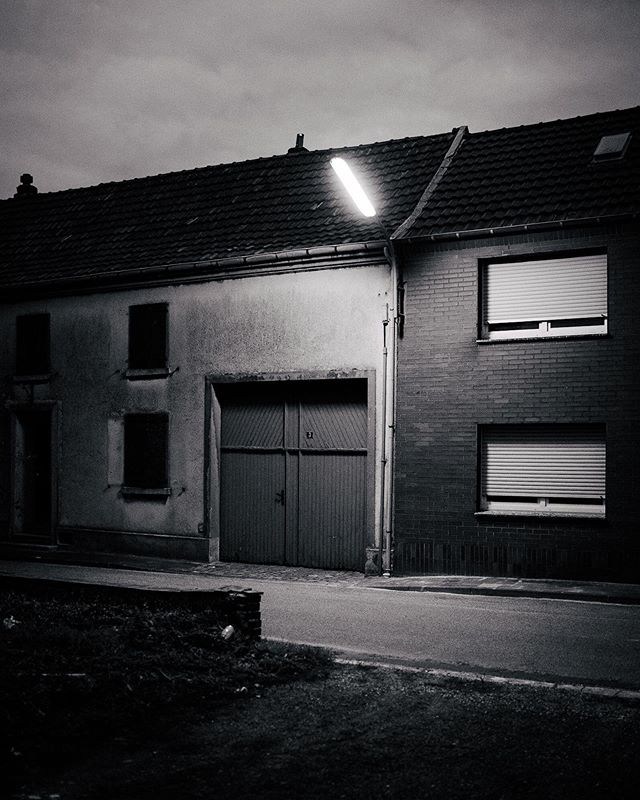building: (1, 143, 443, 564), (423, 137, 640, 577)
sky: (17, 1, 626, 158)
street: (23, 548, 632, 705)
